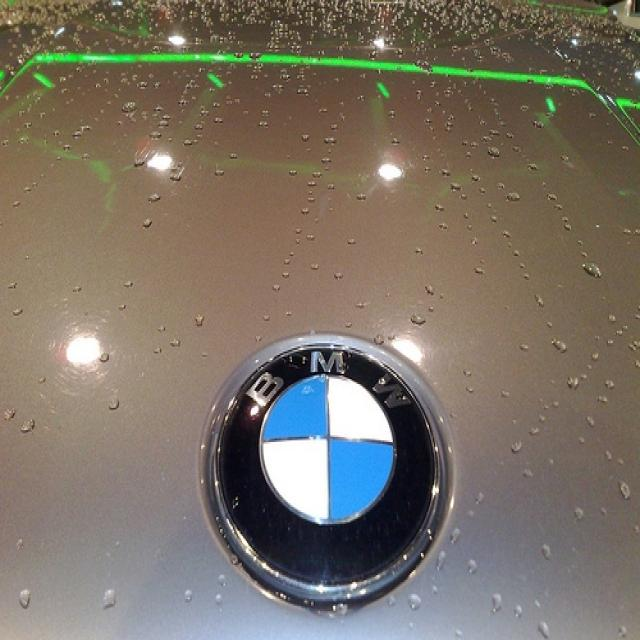bmw: (210, 338, 444, 599)
